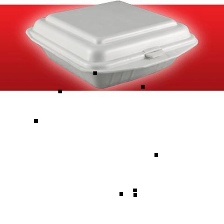foam_box: (21, 0, 200, 90)
